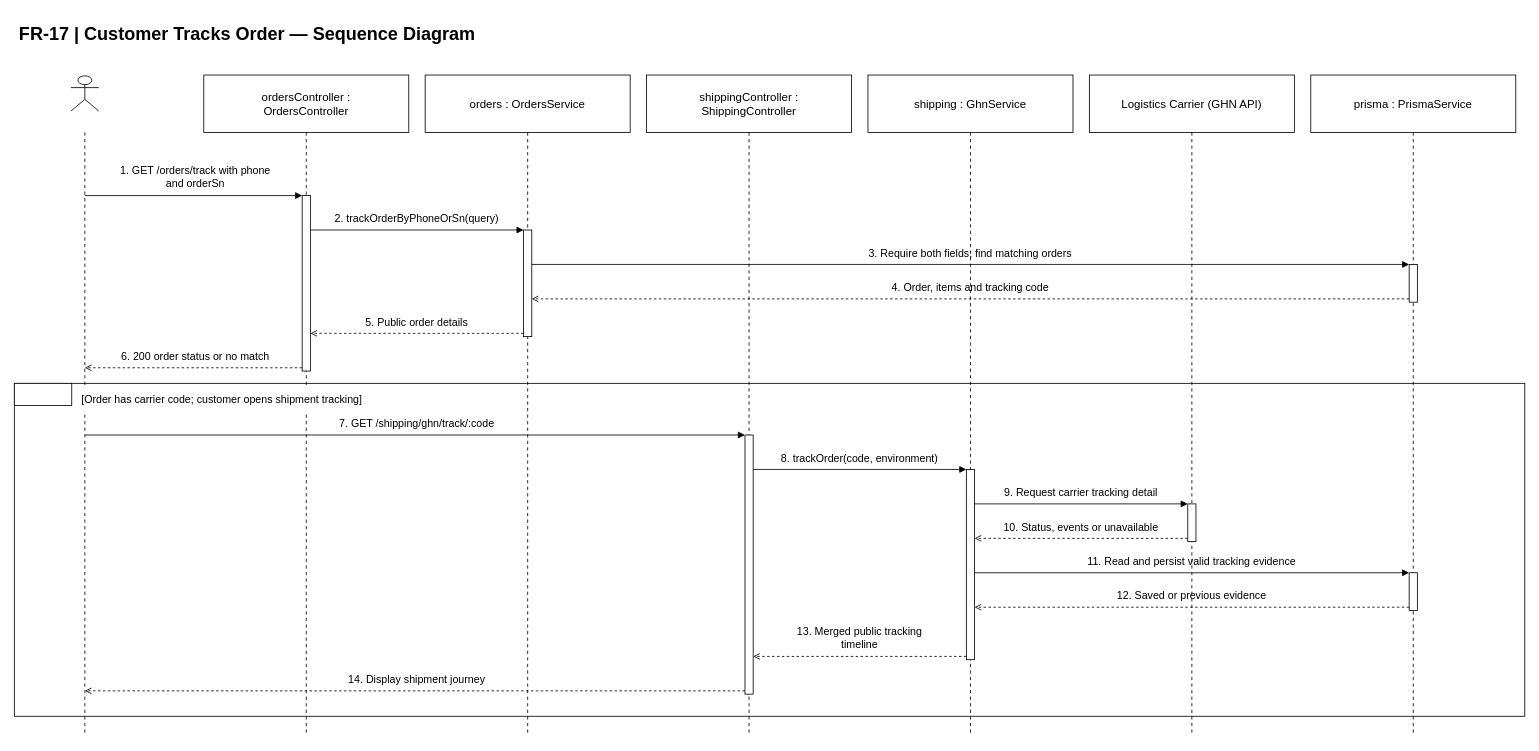
Image size: 1539x751. Some labels were removed from this diagram. The shapes that lost their labels are listed below. From the top down, each one's box as (x1, y1, x2, y2) in pixels, then its label:
(70, 75, 99, 111): Customer
(14, 383, 72, 405): opt
